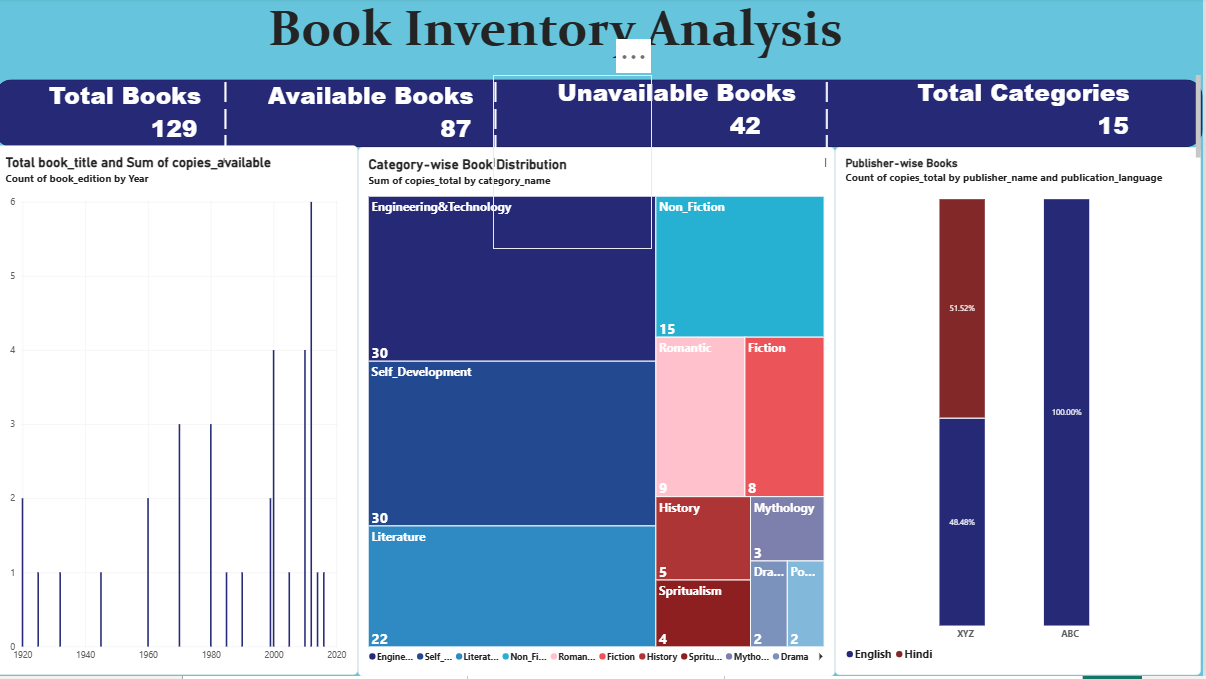

Layout of this report page (visuals, bound fields, positions):
{"tool":"powerbi","page":{"name":"Book Inventory Analysis","canvas":[1920,1080],"ordinal":1},"visuals":[{"type":"shape","box":[0,131.2,1920.7,107.4],"z":0},{"type":"clusteredColumnChart","title":"Total book_title and Sum of copies_available","fields":{"Category":["lib_mngmt_system tbl_book.publication_year.Variation.Date Hierarchy.Year"],"Y":["CountNonNull(lib_mngmt_system tbl_book.book_edition)"]},"box":[0,236.2,577.4,842.2],"z":1000},{"type":"treemap","title":"Category-wise Book Distribution","fields":{"Group":["lib_mngmt_system tbl_category.category_name"],"Values":["Sum(lib_mngmt_system tbl_book.copies_total)"]},"box":[577.4,238.6,758.7,842.2],"z":2000},{"type":"hundredPercentStackedColumnChart","title":"Publisher-wise Books","fields":{"Category":["lib_mngmt_system tbl_publisher.publisher_name"],"Series":["lib_mngmt_system tbl_publisher.publication_language"],"Y":["CountNonNull(lib_mngmt_system tbl_book.copies_total)"]},"box":[1336.1,238.6,582.2,839.8],"z":3000},{"type":"textbox","box":[433.3,0,964.8,130],"z":4000},{"type":"textbox","box":[86.7,130,407.3,268.7],"z":5000},{"type":"textbox","box":[433.3,130,462.2,268.7],"z":6000},{"type":"textbox","box":[895.5,124.2,540.2,274.4],"z":7000},{"type":"textbox","box":[1467.5,124.2,453.5,274.4],"z":8000},{"type":"textbox","box":[362.7,124.1,1555.6,138.4],"z":9000},{"type":"textbox","box":[792.1,124.1,252.9,276.8],"z":10000},{"type":"textbox","box":[1319.4,124.1,78.7,276.8],"z":11000}]}

Visuals, with their boxes in screenshot pixels (x1, y1, x2, y2), scaled from the page's 1920x1080 canvas onto the 1206x679 screenshot:
shape: box=[0, 82, 1205, 150]
"Total book_title and Sum of copies_available" clusteredColumnChart: box=[0, 148, 363, 678]
"Category-wise Book Distribution" treemap: box=[363, 150, 839, 678]
"Publisher-wise Books" hundredPercentStackedColumnChart: box=[839, 150, 1205, 678]
textbox: box=[272, 0, 878, 82]
textbox: box=[54, 82, 310, 251]
textbox: box=[272, 82, 562, 251]
textbox: box=[562, 78, 902, 251]
textbox: box=[922, 78, 1205, 251]
textbox: box=[228, 78, 1205, 165]
textbox: box=[498, 78, 656, 252]
textbox: box=[829, 78, 878, 252]
